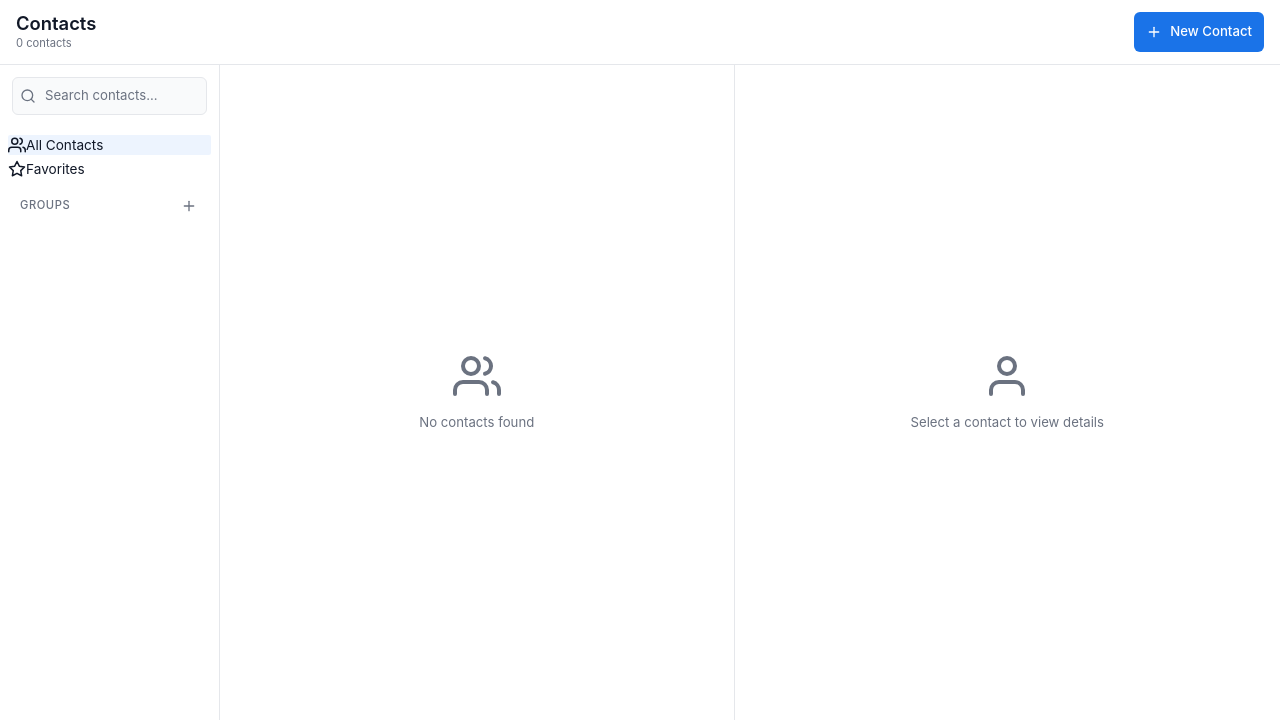
Test: ContactsPanel - Create contact form › shows validation error when creating contact with empty name
Step 1. Click the button "New Contact" → (1199, 32), box [1134,12,1264,52]
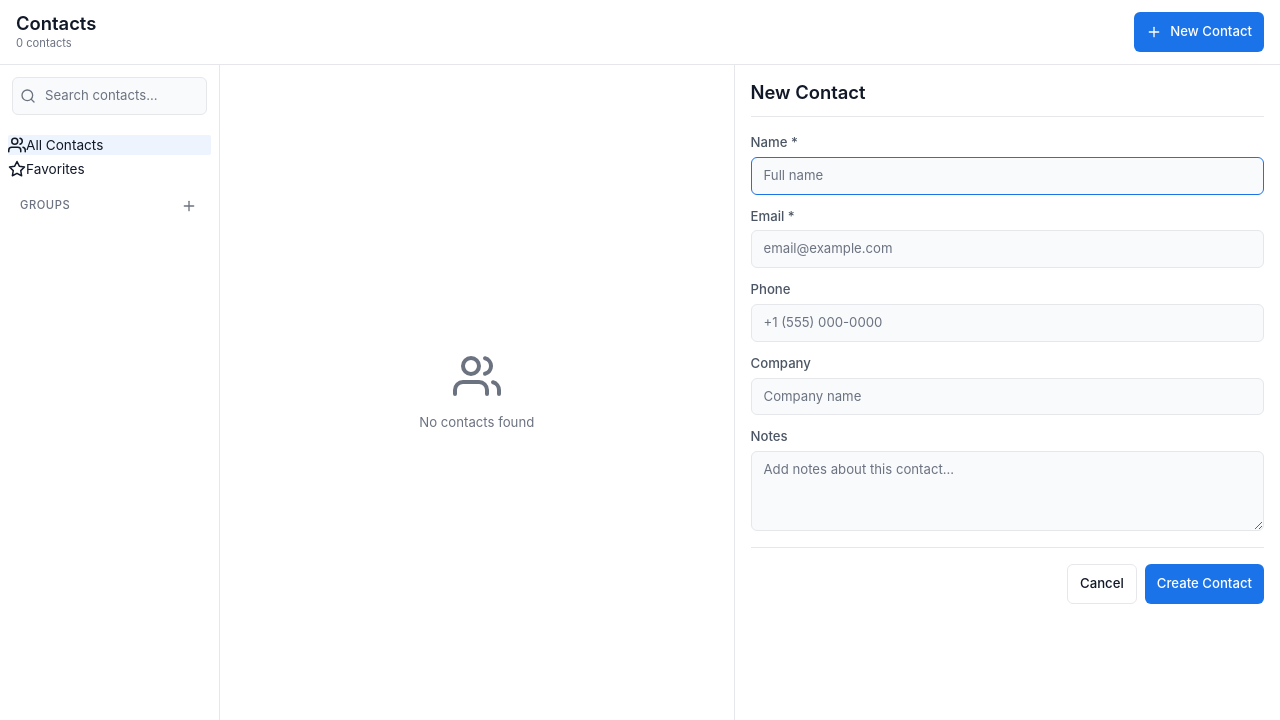
Step 2. Click the button "Create Contact" → (1204, 584), box [1145,564,1264,604]
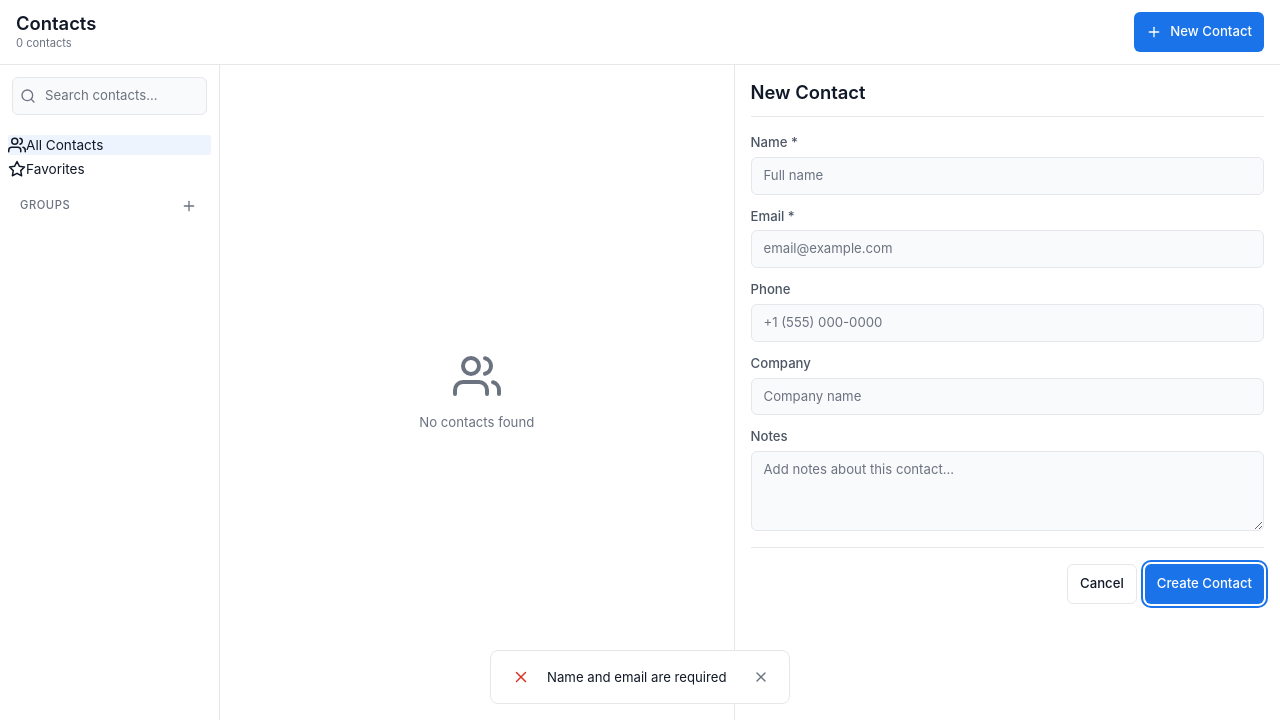
Expected: the text "Name and email are required" is shown, [547,668,737,686]
